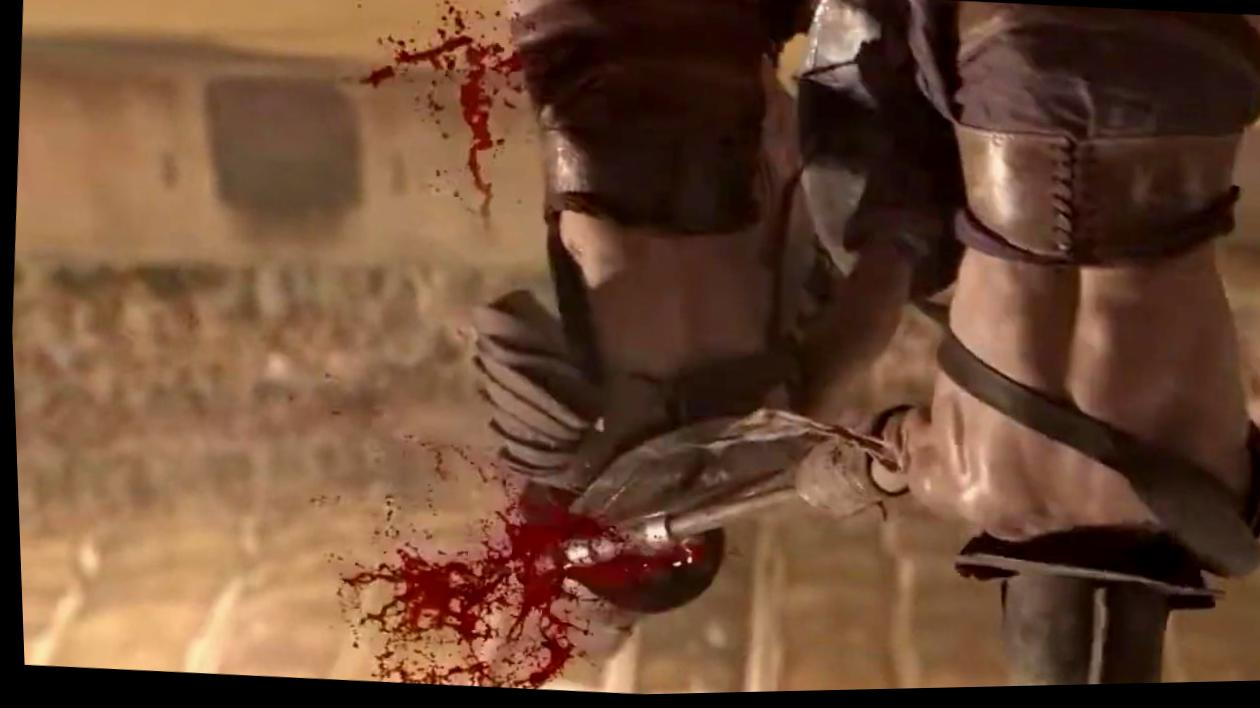Fire: (332, 475, 694, 692), (358, 0, 520, 232)
